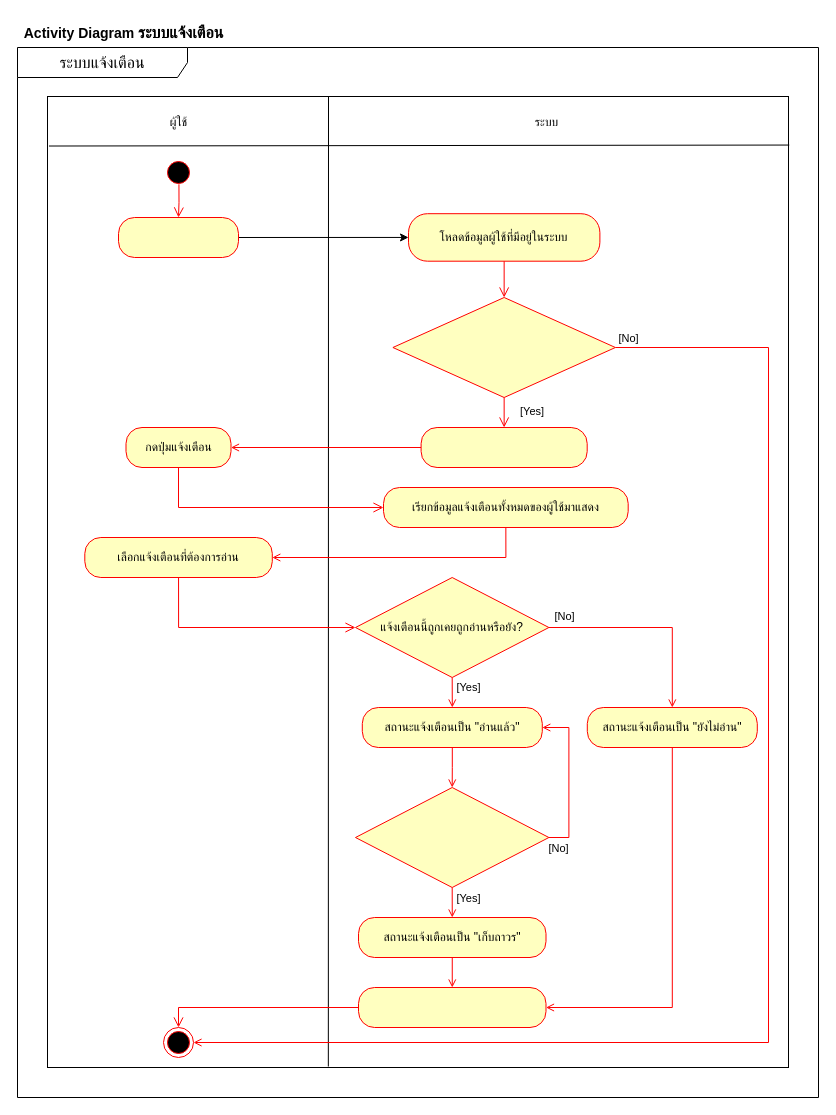
The diagram is 836 pixels wide and 1115 high, and some of its shapes have lost their labels. The centre of each missing label's shape, as x and y in pixels:
ผู้ใช้เข้าสู่ระบบ: the point at 178,237
มีข้อมูลในฐานะผู้ใช้อยู่ในระบบ: the point at 503,347
แจ้งเตือนนี้อ่านแล้วเกิน3วันหรือยัง?: the point at 451,837
แสดงข้อมูลแจ้งเตือนสุขภาพ: the point at 452,1007
แสดงหน้าระบบของผู้ใช้: the point at 503,447
